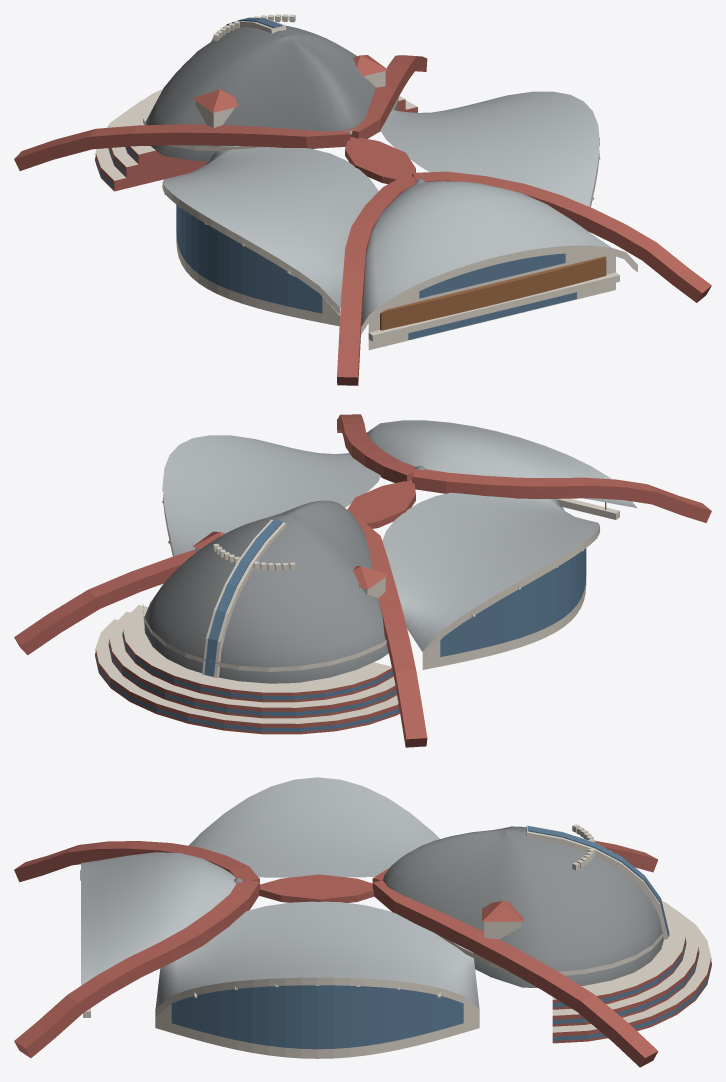
The model's file is yerevan-demirchyan-complex.glb.
3 views of the same model, one above another, from view 1: azimuth 30°, elevation 25°; view 2: azimuth 150°, elevation 25°; view 3: azimuth 270°, elevation 25° (orthographic).
Parts seen in each view (by area): view 1: Karen Demirchyan Sports and Concerts Complex; view 2: Karen Demirchyan Sports and Concerts Complex; view 3: Karen Demirchyan Sports and Concerts Complex.
Boxes of the visible parts, x1,y1,x2,y2 form: Karen Demirchyan Sports and Concerts Complex: (14,14,711,385); Karen Demirchyan Sports and Concerts Complex: (14,414,711,747); Karen Demirchyan Sports and Concerts Complex: (14,777,711,1067).
Size of the model in its own units: 147 by 46.66 by 211.
